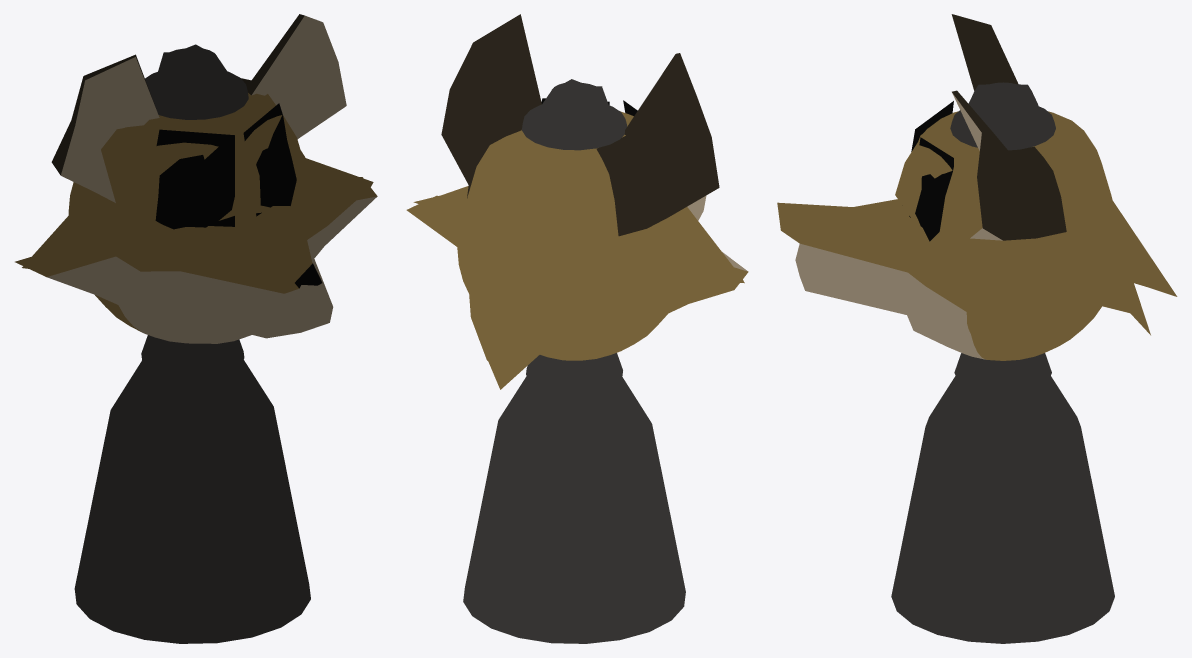
File: bally.fbx
3 views of the same model, side by side, from view 1: azimuth 30°, elevation 25°; view 2: azimuth 150°, elevation 25°; view 3: azimuth 270°, elevation 25° (orthographic). The views are drawn at different scales.
Visible parts, largest first — view 1: pCylinder2; view 2: pCylinder2; view 3: pCylinder2.
Boxes of the visible parts, bbox=[...] form: pCylinder2: bbox=[15, 14, 377, 643]; pCylinder2: bbox=[406, 14, 748, 643]; pCylinder2: bbox=[777, 14, 1177, 643].
Bounding box in the file's own units: 2.57 × 4.05 × 2.69.
